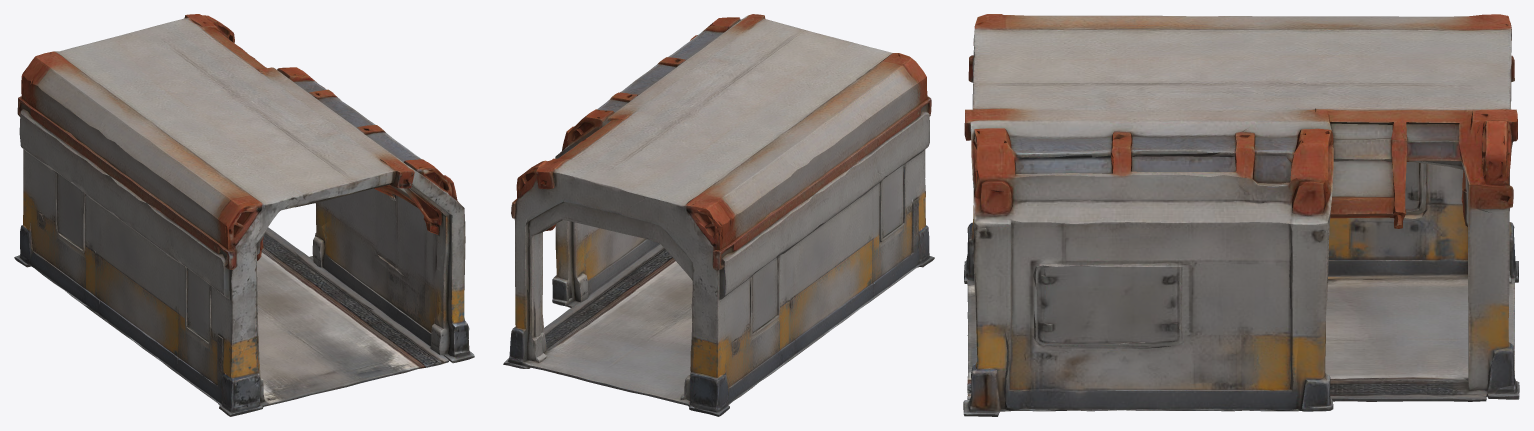
The model's file is MAP-B-CORRIDOR-01-lod0.glb.
The picture shows the model from 3 angles, left to right: view 1: azimuth 30°, elevation 25°; view 2: azimuth 150°, elevation 25°; view 3: azimuth 270°, elevation 25°; orthographic projection. The views are drawn at different scales.
Parts seen in each view (by area): view 1: Mesh; view 2: Mesh; view 3: Mesh.
Part boxes in pixels (x1,y1,x2,y2): Mesh: (14,14,474,416); Mesh: (503,14,934,416); Mesh: (963,14,1519,416).
Size of the model in its own units: 1.24 by 0.9876 by 1.9.
1 material, 1 textured.
